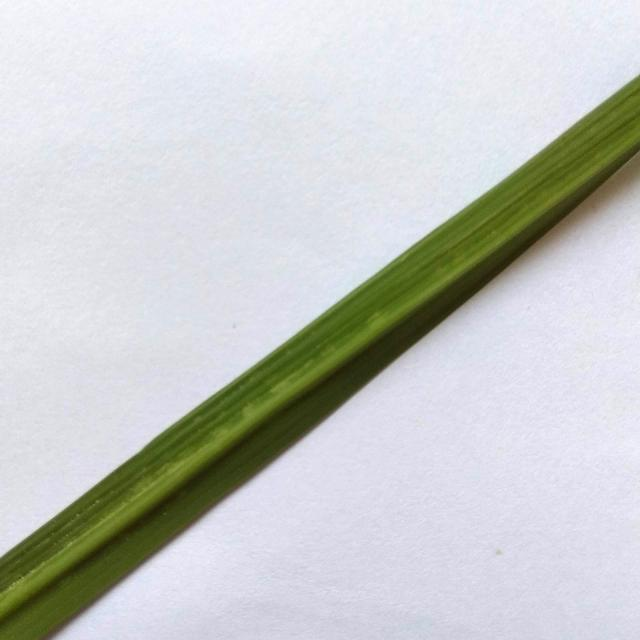healthy: (6, 69, 640, 640)
